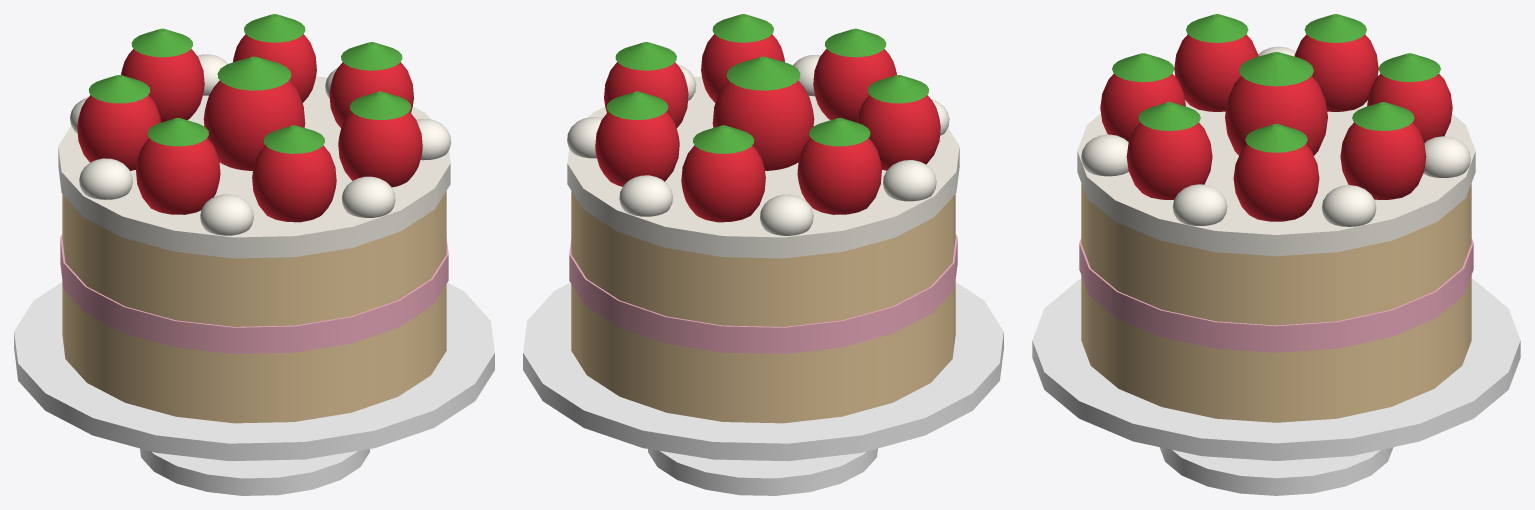
Rendered from Bakery_L8.fbx.
3 renders of one model, left to right at view 1: azimuth 30°, elevation 25°; view 2: azimuth 150°, elevation 25°; view 3: azimuth 270°, elevation 25°, orthographic.
Visible parts, largest first — view 1: B8_Sponge1, B8_Plate, B8_Sponge2, B8_Top, B8_Cream1, B8_Dollop (×5), B8_StandBase, B8_Center_Berry, B8_5_Berry, B8_4_Berry, B8_6_Berry, B8_3_Berry (+11 smaller); view 2: B8_Sponge1, B8_Plate, B8_Sponge2, B8_Top, B8_Cream1, B8_Dollop (×5), B8_StandBase, B8_Center_Berry, B8_2_Berry, B8_3_Berry, B8_1_Berry, B8_4_Berry (+11 smaller); view 3: B8_Sponge1, B8_Sponge2, B8_Plate, B8_Top, B8_Cream1, B8_Dollop (×4), B8_StandBase, B8_7_Berry, B8_Center_Berry, B8_1_Berry, B8_6_Berry, B8_3_Berry (+11 smaller).
Part boxes in pixels (x1,y1,x2,y2): B8_Sponge1: (62,281,446,423); B8_Plate: (14,282,494,461); B8_Sponge2: (62,191,446,326); B8_Top: (58,76,450,258); B8_Cream1: (60,234,448,353); B8_Dollop (×5): (79,54,451,235); B8_StandBase: (140,448,369,495); B8_Center_Berry: (203,80,305,170); B8_5_Berry: (252,145,336,222); B8_4_Berry: (136,138,220,214); B8_6_Berry: (338,111,422,187); B8_3_Berry: (77,95,160,170); B8_Sponge1: (571,281,955,423); B8_Plate: (523,282,1003,461); B8_Sponge2: (571,191,955,326); B8_Top: (567,76,959,258); B8_Cream1: (569,234,957,353); B8_Dollop (×5): (567,54,936,235); B8_StandBase: (648,448,877,495); B8_Center_Berry: (712,80,814,170); B8_2_Berry: (681,145,765,222); B8_3_Berry: (797,138,881,214); B8_1_Berry: (595,111,679,186); B8_4_Berry: (857,95,940,170); B8_Sponge1: (1081,275,1471,422); B8_Sponge2: (1081,183,1471,325); B8_Plate: (1032,279,1520,460); B8_Top: (1077,100,1475,256); B8_Cream1: (1079,238,1473,352); B8_Dollop (×4): (1081,134,1470,226); B8_StandBase: (1159,447,1393,495); B8_7_Berry: (1233,144,1319,221); B8_Center_Berry: (1225,76,1327,155); B8_1_Berry: (1340,122,1426,199); B8_6_Berry: (1126,122,1212,199); B8_3_Berry: (1294,34,1378,111).
Size of the model in its own units: 25 by 22.2 by 25.
